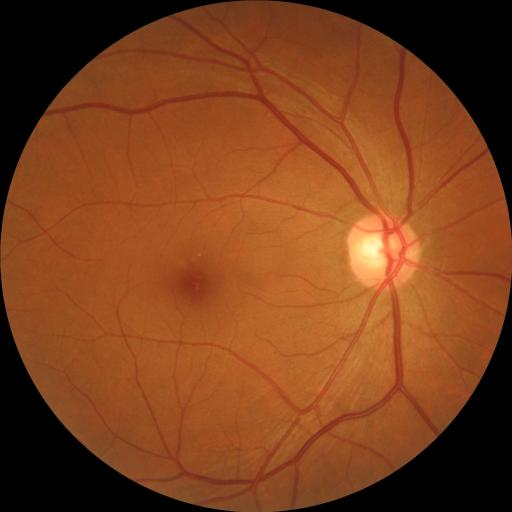Optic Cup: (360, 235, 395, 269)
Optic Disc: (348, 213, 421, 289)
